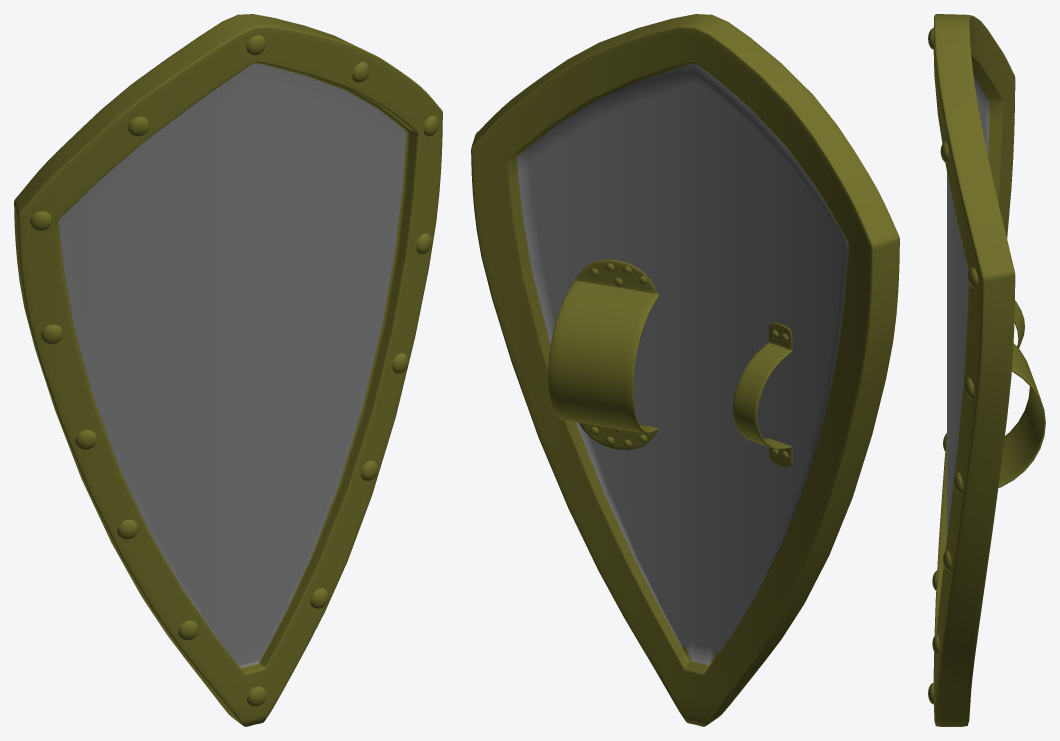
File: shield.fbx
3 renders of one model, left to right at view 1: azimuth 30°, elevation 25°; view 2: azimuth 150°, elevation 25°; view 3: azimuth 270°, elevation 25°, orthographic.
Visible parts, largest first — view 1: MK_Shield_008; view 2: MK_Shield_008; view 3: MK_Shield_008.
Part boxes in pixels (x1,y1,x2,y2): MK_Shield_008: (14, 14, 442, 726); MK_Shield_008: (471, 14, 899, 726); MK_Shield_008: (928, 14, 1045, 726).
Size of the model in its own units: 30.49 by 48.06 by 7.31.
